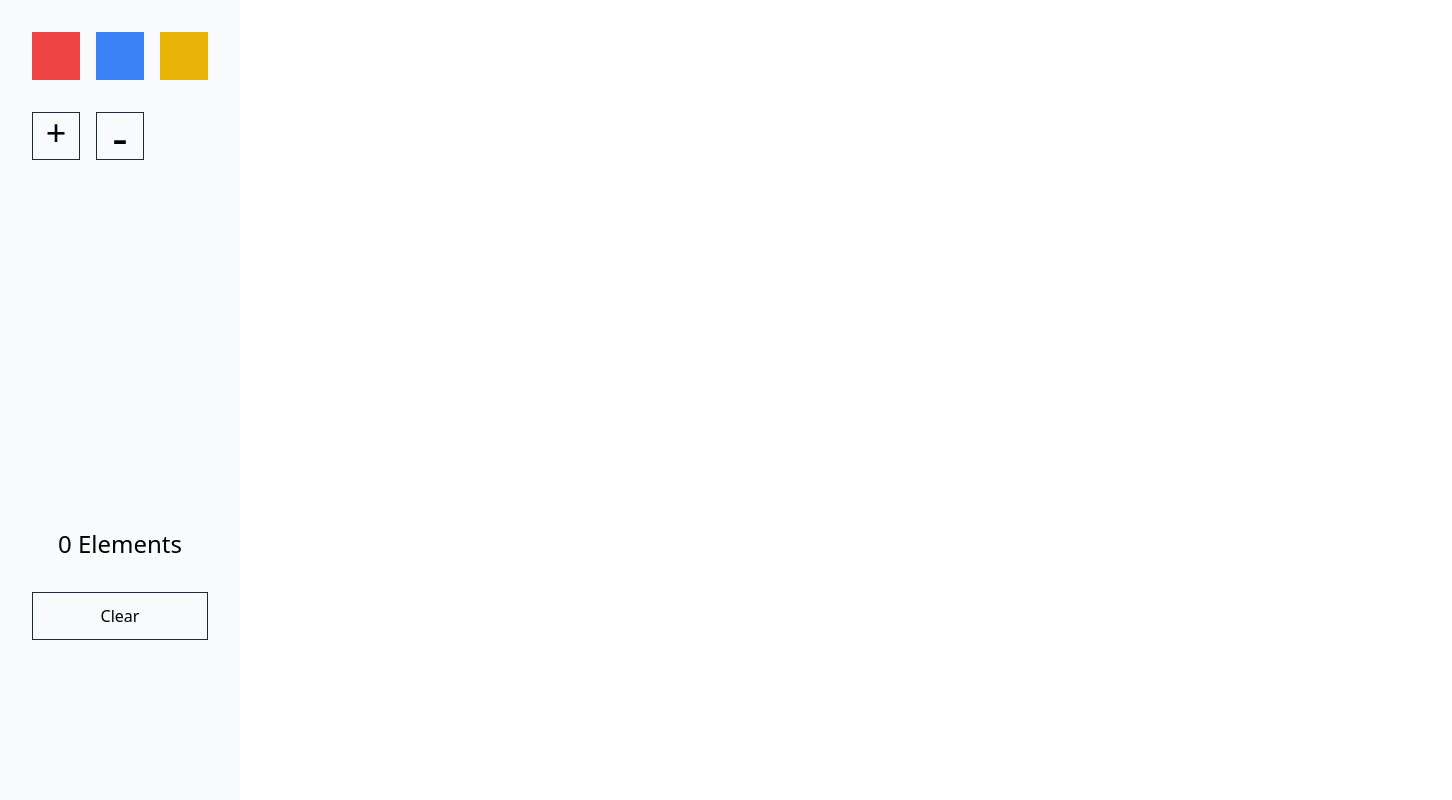
Scenario: Draw colorful boxes › Add box with Red color
This screenshot has width=1452, height=800.
Click the 1st element with test id "box-with-color": (56,56) [32, 32, 80, 80]
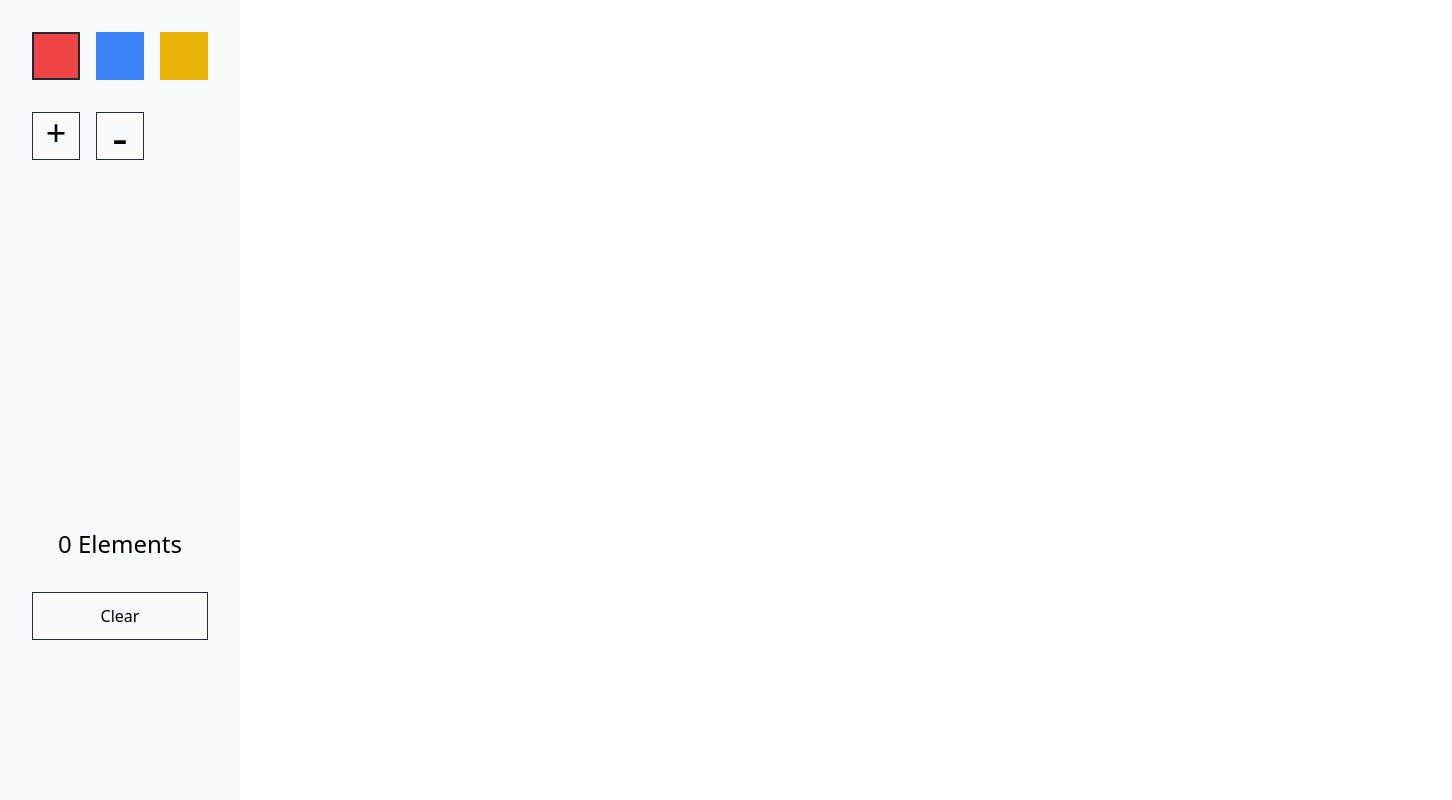
Click the element with test id "plus-button": (56,136) [32, 112, 80, 160]
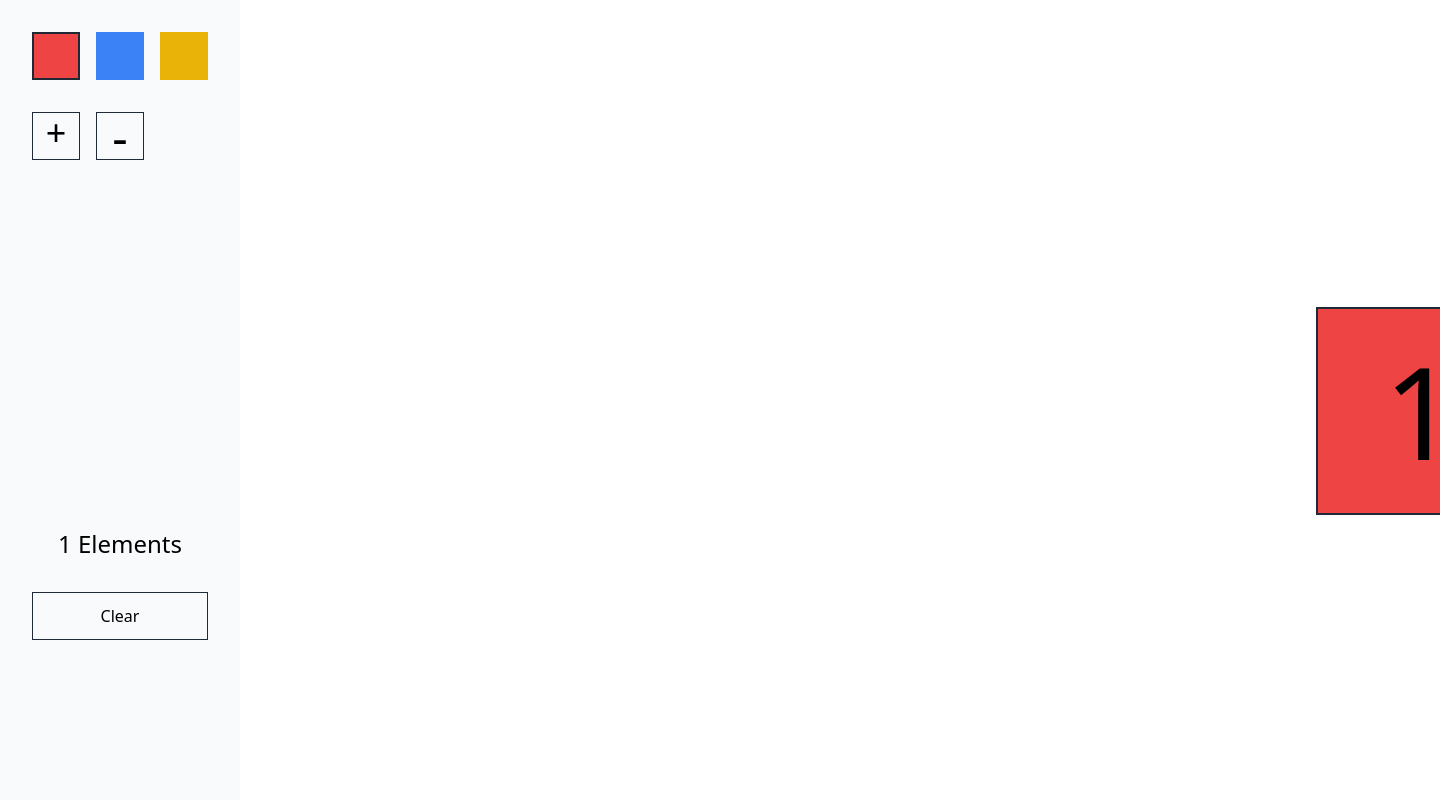
expect the element with test id "color-box" reads "1": met, box [1316, 307, 1440, 515]
